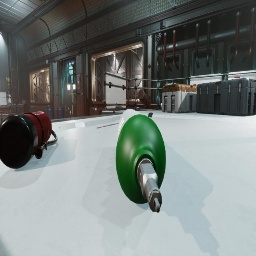0: (116, 109, 166, 213), (161, 103, 162, 110)
EmergencyPhone ,: (26, 102, 28, 107)
FireExtinguisher ]: (0, 111, 58, 169)
FirstAidBox ,: (54, 119, 55, 119)
NitrogenTank ,: (138, 89, 151, 109)
SafetySwitchPanel ,: (77, 74, 81, 89), (22, 100, 26, 104)
